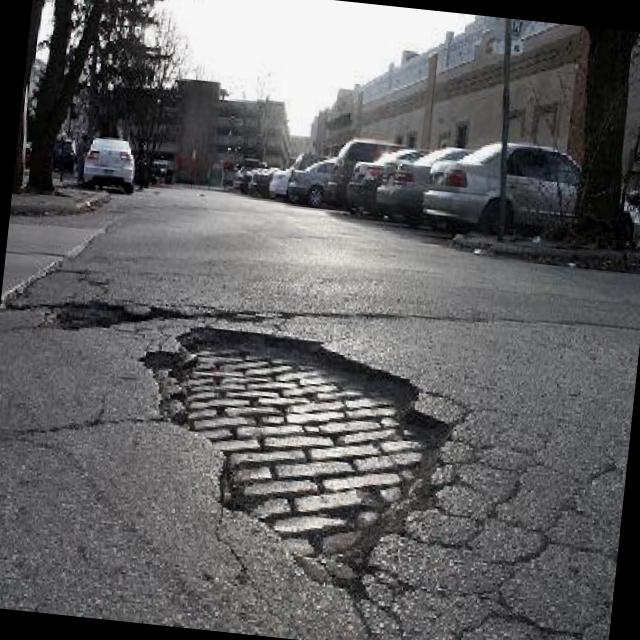Lubang: (144, 327, 462, 597), (46, 300, 151, 328)
